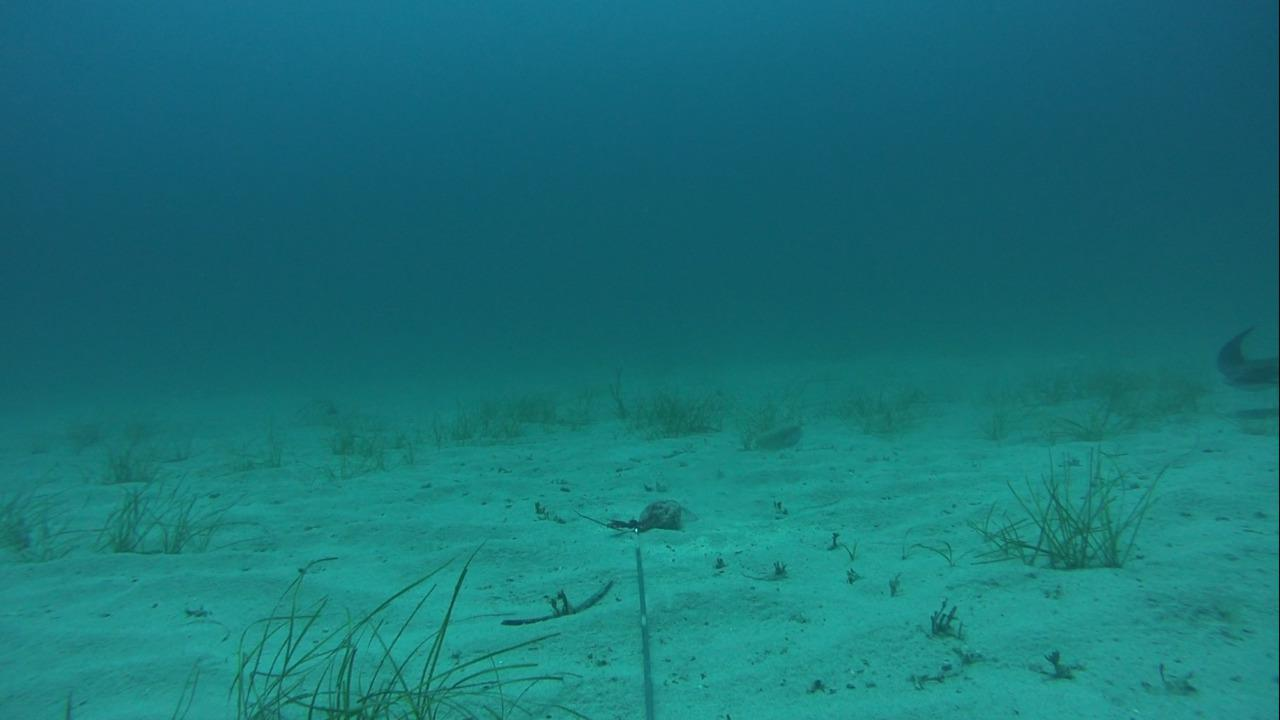myliobatis: (1206, 319, 1279, 395)
raor: (736, 419, 806, 453)
